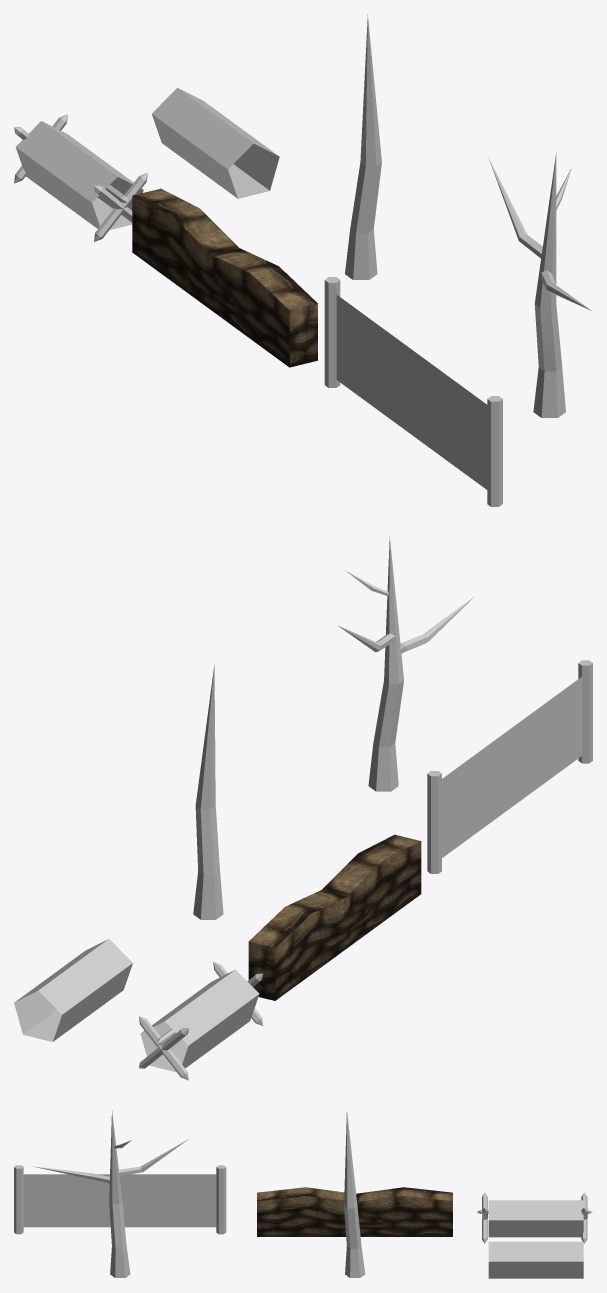
The model's file is PSXTrenchPack.fbx.
3 views of the same model, one above another, from view 1: azimuth 30°, elevation 25°; view 2: azimuth 150°, elevation 25°; view 3: azimuth 270°, elevation 25° (orthographic). The views are drawn at different scales.
Parts seen in each view (by area): view 1: BarbedWire, Sandbag, BarbedWire2, BarbedWire3, DeadTree2, DeadTree; view 2: BarbedWire, Sandbag, BarbedWire2, BarbedWire3, DeadTree2, DeadTree; view 3: BarbedWire, Sandbag, BarbedWire2, BarbedWire3, DeadTree2, DeadTree.
Part boxes in pixels (<box>): BarbedWire: <box>324,277,502,506</box>; Sandbag: <box>132,188,317,367</box>; BarbedWire2: <box>14,114,147,241</box>; BarbedWire3: <box>152,88,279,198</box>; DeadTree2: <box>488,153,591,417</box>; DeadTree: <box>345,14,381,279</box>; BarbedWire: <box>427,660,592,873</box>; Sandbag: <box>248,834,421,1000</box>; BarbedWire2: <box>139,961,263,1080</box>; BarbedWire3: <box>14,939,132,1041</box>; DeadTree2: <box>337,536,474,791</box>; DeadTree: <box>193,664,223,919</box>; BarbedWire: <box>14,1165,226,1234</box>; Sandbag: <box>257,1187,452,1236</box>; BarbedWire2: <box>477,1192,592,1243</box>; BarbedWire3: <box>488,1241,583,1278</box>; DeadTree2: <box>32,1110,188,1277</box>; DeadTree: <box>344,1111,365,1277</box>.
Size of the model in its own units: 1.44 by 1.89 by 5.92.
